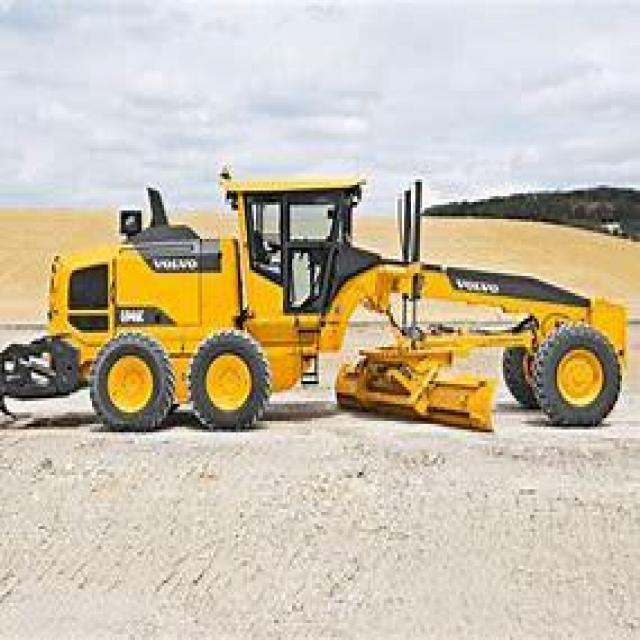Grader: (7, 162, 638, 441)
